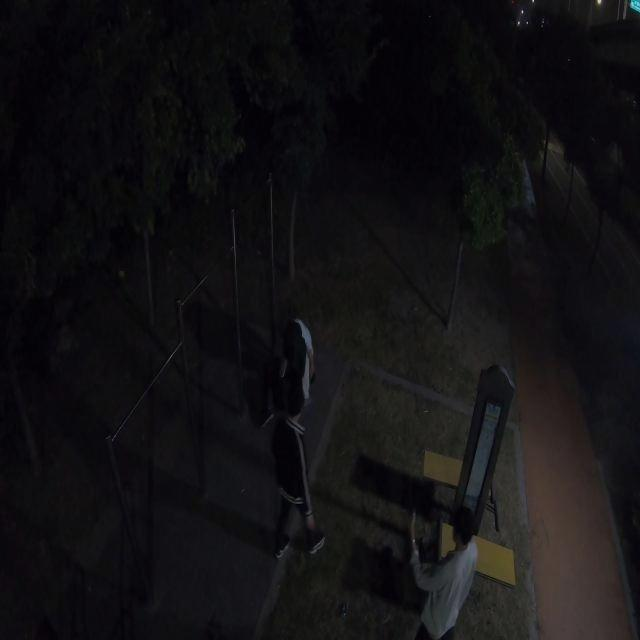fight: (256, 312, 320, 428)
non-fight: (265, 384, 329, 563)
